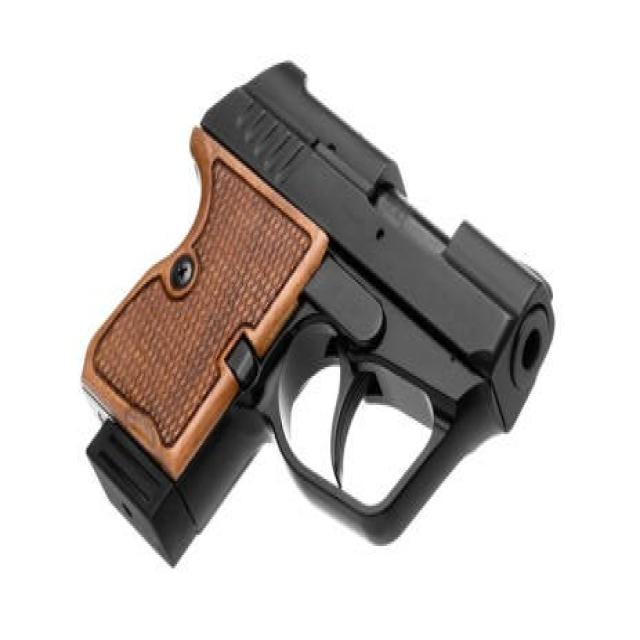pistol: (75, 47, 570, 574)
